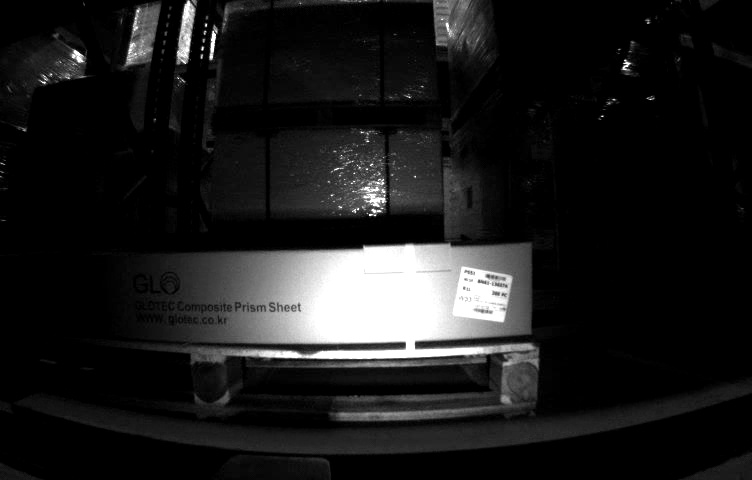True Barcode: (452, 263, 511, 325)
